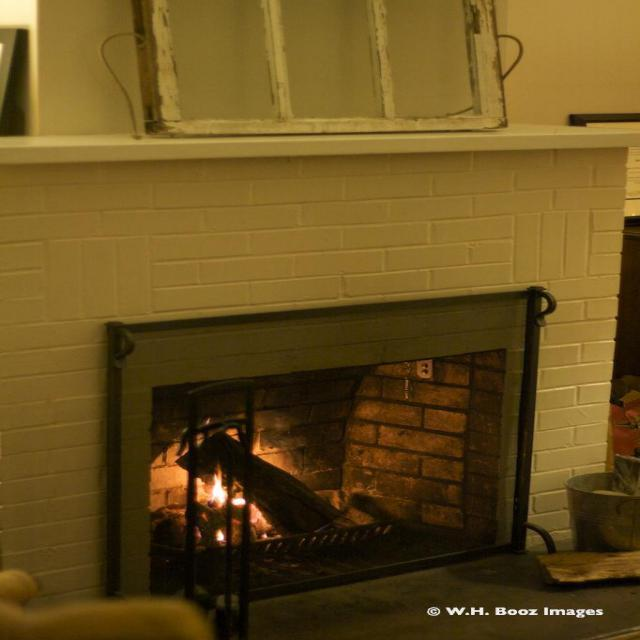Fire: (182, 468, 247, 546)
